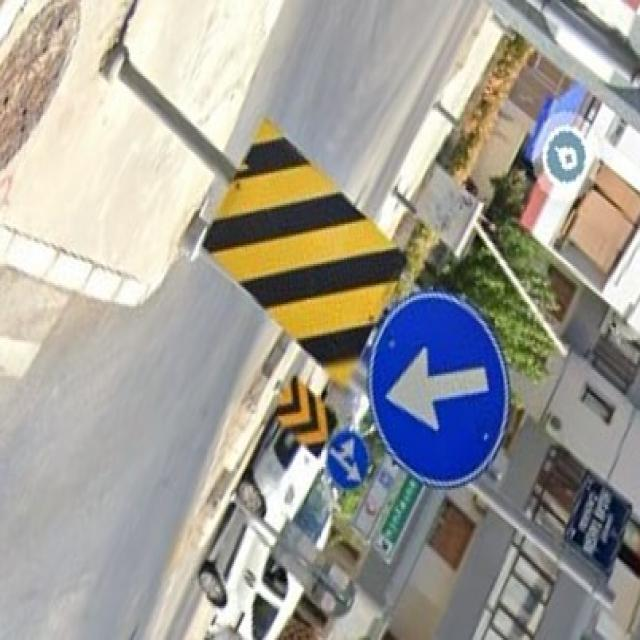Turn Left: (371, 298, 511, 492)
